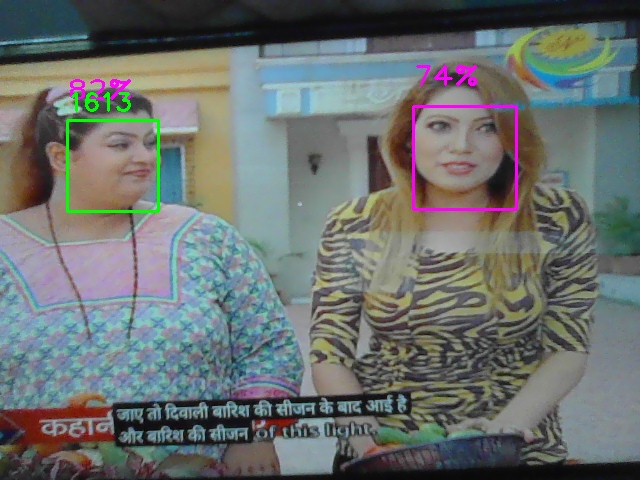fake: (67, 120, 159, 212)
